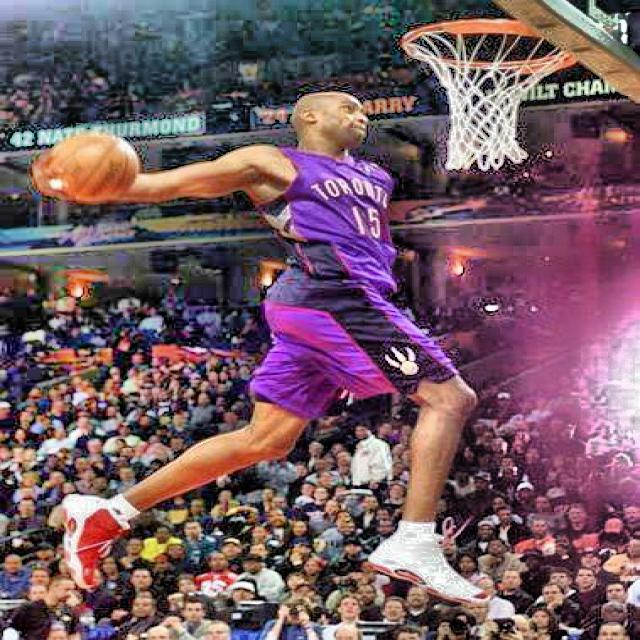board: (52, 132, 141, 205)
rim: (402, 19, 571, 172)
